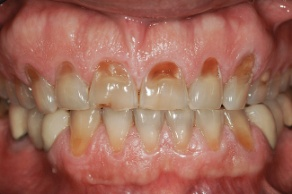LL1BC_healthy: (248, 103, 277, 152)
LL2BC_healthy: (273, 105, 292, 129)
LLCI_healthy: (165, 109, 196, 154)
LLC_decay: (226, 109, 254, 152)
LLLI_healthy: (198, 106, 225, 154)
LR1BC_healthy: (42, 111, 68, 154)
LR1M_healthy: (9, 109, 26, 142)
LR2BC_healthy: (25, 112, 44, 150)
LRCI_healthy: (132, 110, 164, 154)
LRC_decay: (70, 110, 101, 159)
LRLI_healthy: (101, 107, 132, 157)
UL1BC_decay: (256, 73, 271, 105)
UL2BC_decay: (272, 73, 289, 95)
ULCI_decay: (141, 61, 188, 109)
ULC_decay: (223, 52, 255, 110)
ULLI_decay: (191, 59, 222, 109)
UR1BC_decay: (16, 78, 37, 114)
URCI_decay: (92, 60, 140, 111)
URC_decay: (27, 68, 55, 113)
URLI_decay: (53, 62, 90, 110)
